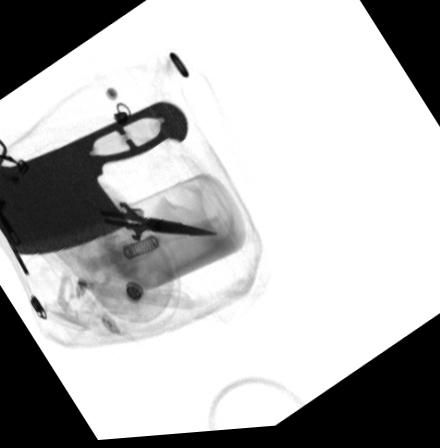Knife: (0, 105, 187, 255)
Scissors: (71, 182, 219, 261)
